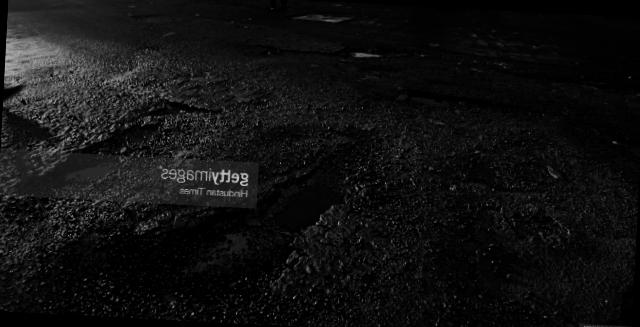Pothole: (133, 101, 384, 327), (18, 88, 194, 236), (381, 68, 588, 140), (316, 37, 400, 78), (292, 4, 362, 34)
